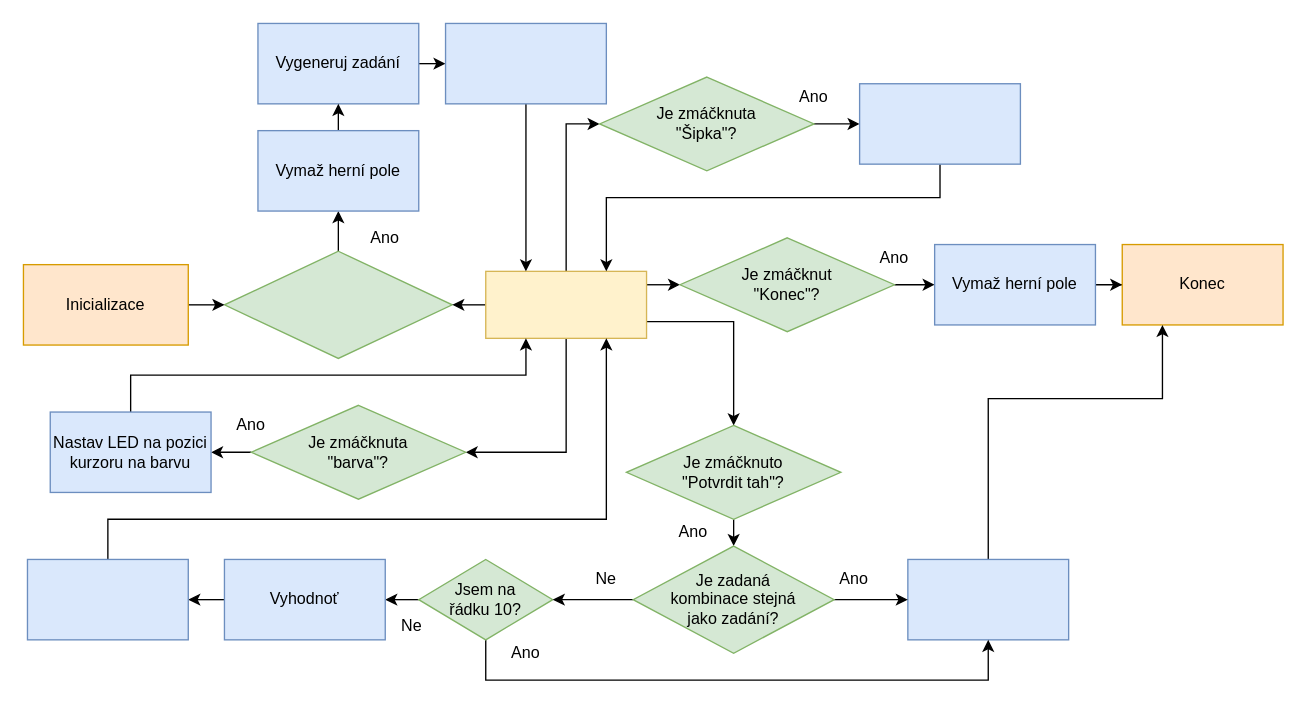
Some shapes in this 1307 by 714 pixel diagram are drawn without their labels. Each missing label, with the centre of its shape:
Blikej kurzorem: point 565,304
Je stisknuto tlačítko "Nová hra": point 337,304
Nastav pozici kurzoru na 1. LED 1. řádku: point 525,63
Posuň kurzor na 1. LED dalšího řádku: point 107,599
Posuň kurzorem: point 939,123
Rozsviť zadání: point 988,599
